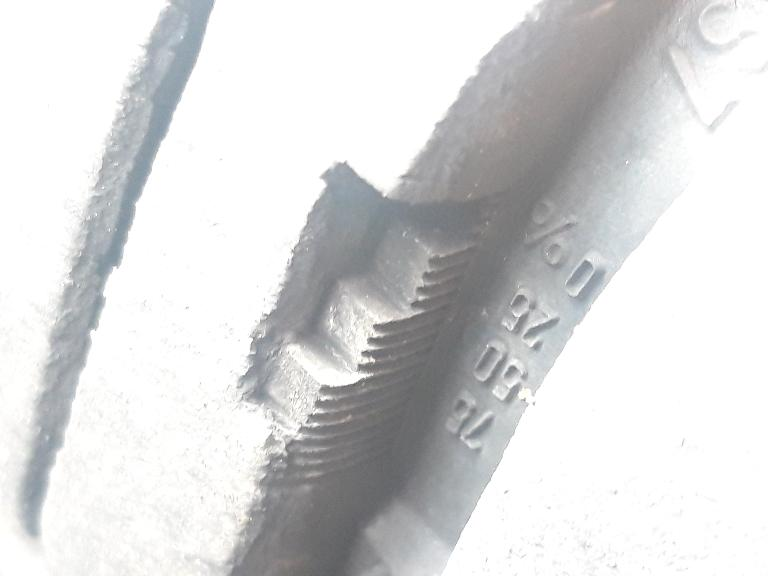temoin:80: (213, 147, 545, 508)
